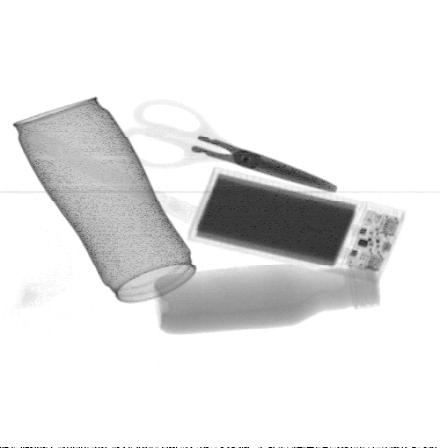Powerbank: (189, 166, 409, 285)
Scissors: (116, 98, 342, 193)
